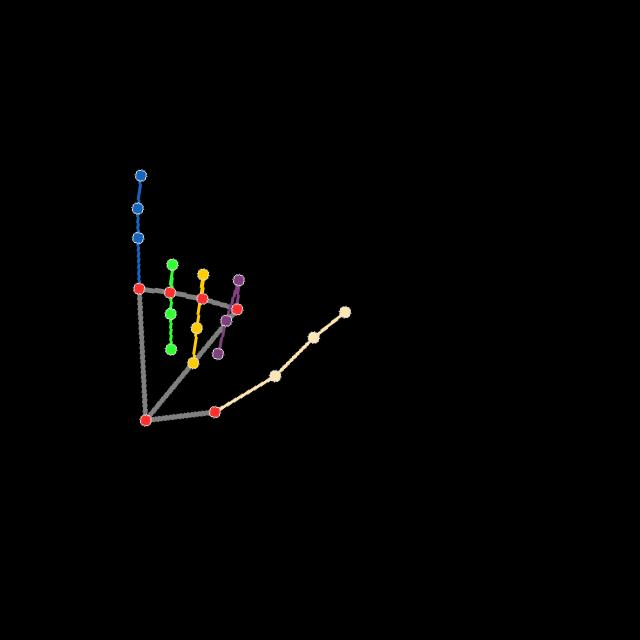skr: (127, 166, 353, 428)
